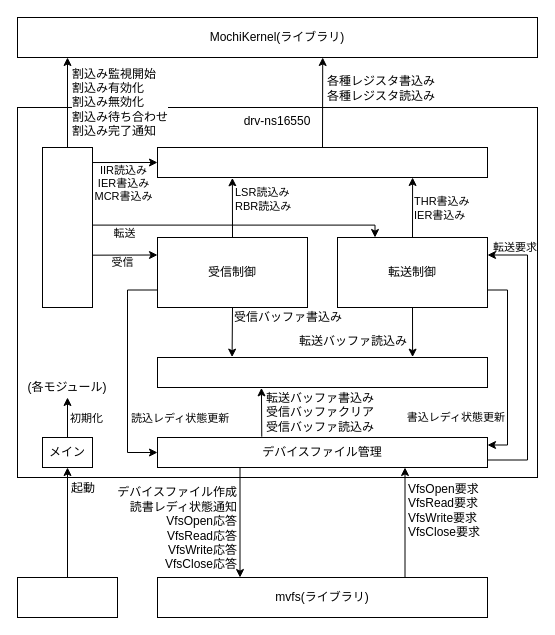
Some shapes in this 555 by 635 pixel diagram are drawn without their labels. Here are the shapes that lost their labels. From the top down, the centre of each, then its label:
point 322,162: 入出力制御
point 67,227: 割込み 管理
point 322,372: バッファ管理
point 67,597: MochiKernel
